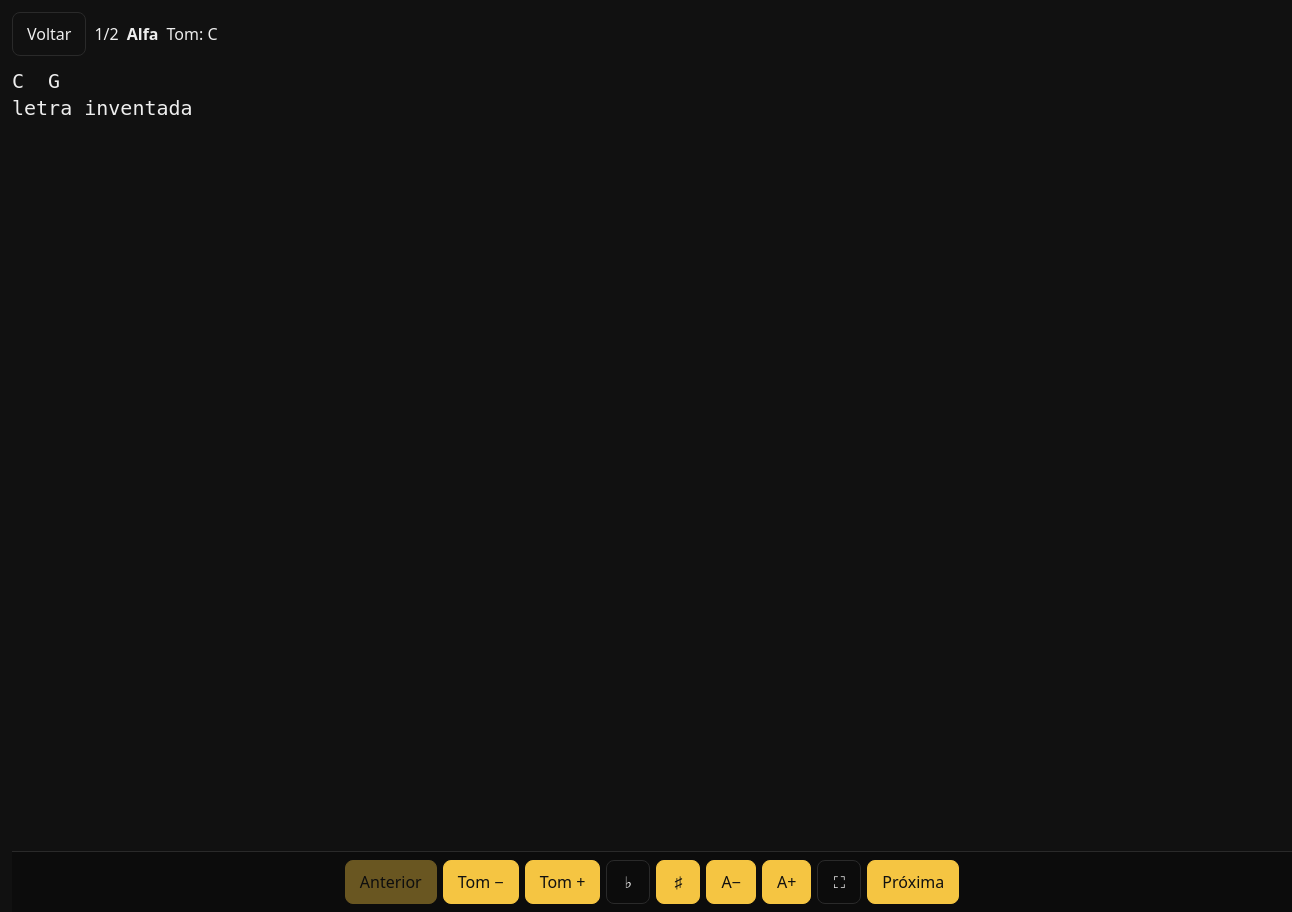
Scenario: SetlistPlayer › próxima avança e na última fica desabilitada
This screenshot has width=1292, height=912.
Expected: the text "1/2" is shown, 94,23 -> 119,45
Expected: the text "Alfa" is shown, 127,23 -> 158,45
Click the button "Próxima" at (913, 882), box 867,860 -> 959,904
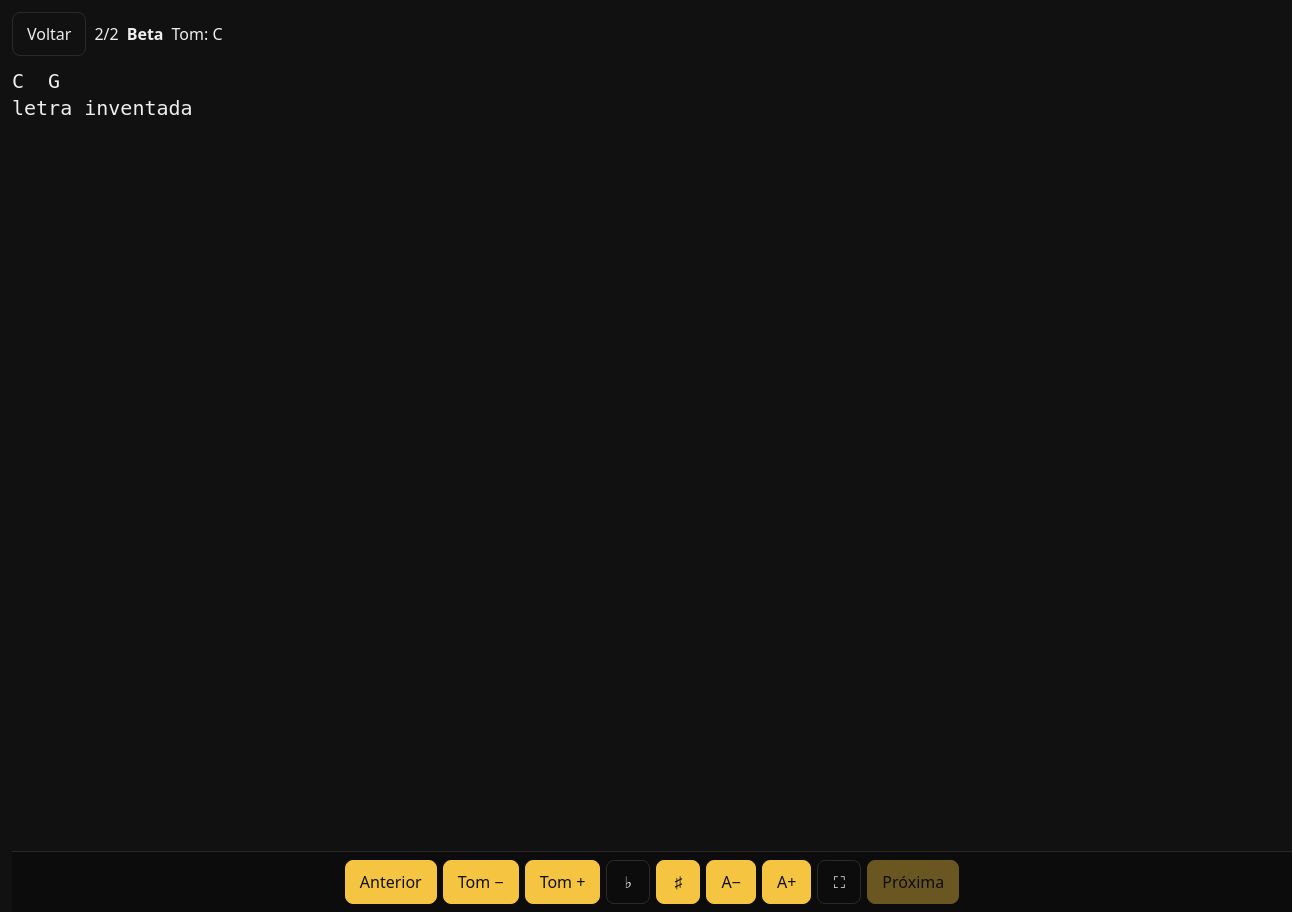
Now the text "2/2" is shown, box 94,23 -> 119,45
Now the text "Beta" is shown, box 127,23 -> 164,45
Now the button "Próxima" is disabled, box 867,860 -> 959,904
